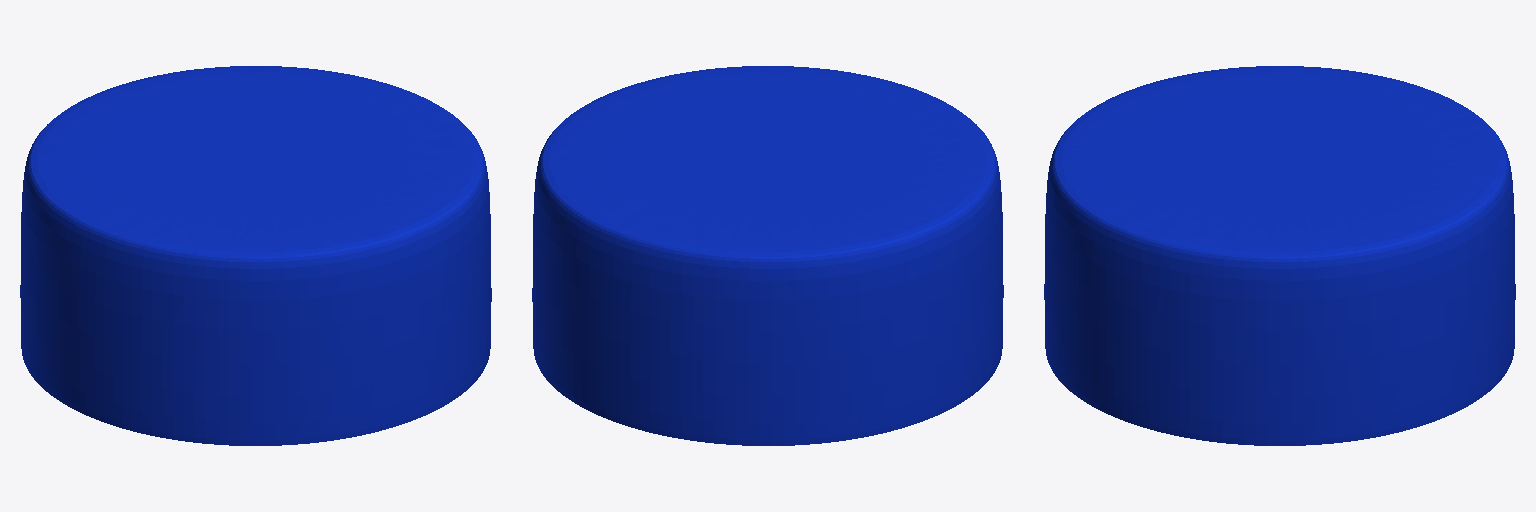
The robot description file, URDF, robot "water_bottle_500ml":
<?xml version="1.0"?>
<robot name="water_bottle_500ml">

  <!-- ────────── BODY ────────── -->
  <!-- PET bottle with screw-cap – all frames local, +90° about X -->

<link name="body">
  <inertial>
    <origin xyz="0 0 0"/>
    <mass value="0.024"/>
    <inertia ixx="2.8e-4" iyy="2.8e-4" izz="4.6e-4"/>
  </inertial>

  <visual>
    <origin xyz="0 0 0" />
    <geometry>
      <mesh filename="package://bottles/meshes/visual/plastic_body.obj"/>
    </geometry>
  </visual>

  <collision>
    <origin xyz="0 0 0" />
    <geometry>
      <mesh filename="package://bottles/meshes/collision/bottle_col.stl"/>
    </geometry>
  </collision>
</link>

<link name="cap">
  <inertial>
    <origin xyz="0 0 0.0120"/>
    <mass value="0.003"/>
    <inertia ixx="1e-6" iyy="1e-6" izz="2e-6"/>
  </inertial>

  <visual>
    <origin xyz="0 0 0.0120"/>
    <geometry>
      <mesh filename="package://bottles/meshes/visual/plastic_cap.obj"/>
    </geometry>
    <material name="blue"><color rgba="0.1 0.25 0.8 1"/></material>
  </visual>

  <collision>
    <origin xyz="0 0 0.0120"/>
    <geometry>
      <mesh filename="package://bottles/meshes/collision/cap_col.stl"/>
    </geometry>
  </collision>
</link>

<joint name="cap_joint" type="revolute">
  <parent link="body"/>
  <child  link="cap"/>
  <origin xyz="0 0 0.1020"/>
  <axis   xyz="0 0 1"/>
  <limit lower="-12.566" upper="0"
         effort="0.3" velocity="4"/>
</joint>


</robot>

--- What the picture shows (computed from the rendered views, not written in the file) ---
Views: 3 orthographic renders of the robot side by side, from view 1: azimuth 30°, elevation 25°; view 2: azimuth 150°, elevation 25°; view 3: azimuth 270°, elevation 25°.
Model water_bottle_500ml with 2 links and 1 joints (1 revolute), rooted at body, posed all joints at 0.
Visible links, largest first — view 1: cap; view 2: cap; view 3: cap.
Boxes of the visible links, x1,y1,x2,y2 form: cap: [20, 66, 491, 445]; cap: [532, 66, 1003, 445]; cap: [1044, 66, 1515, 445].
Bounding box of the posed robot: 0.0273 × 0.0273 × 0.0121 m (x, y, z).
1 mesh visuals loaded from 2 distinct referenced files (1 OBJ); not drawn: 1 (reference not matched to a file when rendering).